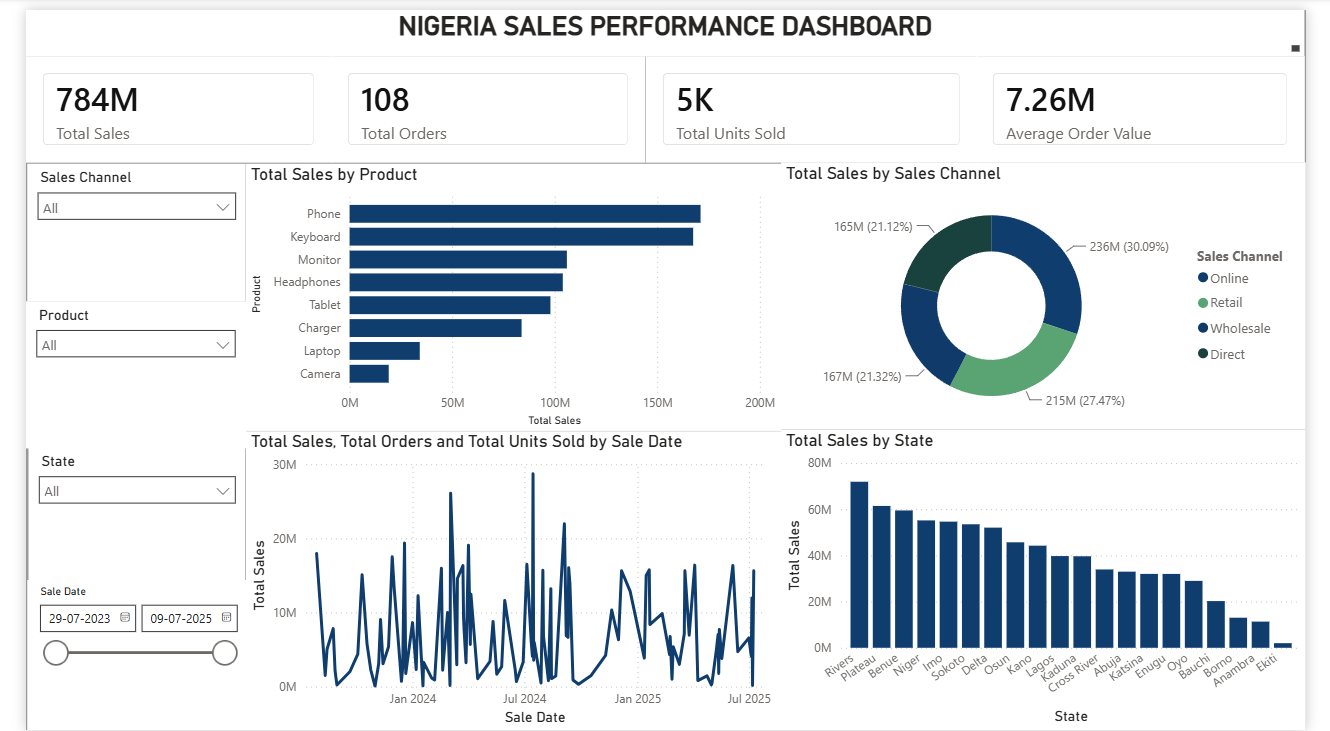

The page's visual inventory and layout, read from the dashboard file:
{"tool":"powerbi","page":{"name":"Page 1","canvas":[1280,720],"ordinal":0},"visuals":[{"type":"cardVisual","fields":{"Data":["nigeria_messy_sales_dataset.Total Sales"]},"box":[0,46.6,305.5,106.7],"z":0},{"type":"cardVisual","fields":{"Data":["nigeria_messy_sales_dataset.Total Orders"]},"box":[305.5,46.6,314.1,106.7],"z":1000},{"type":"cardVisual","fields":{"Data":["nigeria_messy_sales_dataset.Total Units Sold"]},"box":[619.6,46.6,331.3,106.7],"z":2000},{"type":"cardVisual","fields":{"Data":["nigeria_messy_sales_dataset.Average Order Value"]},"box":[949.7,46.6,328.8,106.7],"z":3000},{"type":"lineChart","fields":{"Category":["nigeria_messy_sales_dataset.Sale Date"],"Y":["nigeria_messy_sales_dataset.Total Sales"]},"box":[219.6,420.9,535,299.4],"z":4000},{"type":"clusteredBarChart","fields":{"Category":["nigeria_messy_sales_dataset.Product"],"Y":["nigeria_messy_sales_dataset.Total Sales"]},"box":[219.6,153.4,535,267.5],"z":5000},{"type":"donutChart","fields":{"Category":["nigeria_messy_sales_dataset.Sales Channel"],"Y":["nigeria_messy_sales_dataset.Total Sales"]},"box":[755,152.5,525,267.5],"z":6000},{"type":"slicer","fields":{"Values":["nigeria_messy_sales_dataset.Sales Channel"]},"box":[1.2,153.4,218.4,137.4],"z":7000},{"type":"slicer","fields":{"Values":["nigeria_messy_sales_dataset.State"]},"box":[2.5,438,217.2,132.5],"z":8000},{"type":"slicer","fields":{"Values":["nigeria_messy_sales_dataset.Product"]},"box":[0,290.8,219.6,147.2],"z":9000},{"type":"slicer","fields":{"Values":["nigeria_messy_sales_dataset.Sale Date"]},"box":[1.2,570.6,218.4,149.7],"z":10000},{"type":"clusteredColumnChart","fields":{"Category":["nigeria_messy_sales_dataset.State"],"Y":["nigeria_messy_sales_dataset.Total Sales"]},"box":[755.1,420.5,525,299.8],"z":11000},{"type":"textbox","title":"NIGERIA SALES PERFORMANCE DASHBOARD","box":[0,0,1278.5,46.6],"z":12000}]}

Visuals, with their boxes in screenshot pixels (x1, y1, x2, y2), scaled from the page's 1280x720 canvas onto the 1330x731 screenshot:
cardVisual - nigeria_messy_sales_dataset.Total Sales: 0 47 317 156
cardVisual - nigeria_messy_sales_dataset.Total Orders: 317 47 644 156
cardVisual - nigeria_messy_sales_dataset.Total Units Sold: 644 47 988 156
cardVisual - nigeria_messy_sales_dataset.Average Order Value: 987 47 1328 156
lineChart - nigeria_messy_sales_dataset.Sale Date x nigeria_messy_sales_dataset.Total Sales: 228 427 784 730
clusteredBarChart - nigeria_messy_sales_dataset.Product x nigeria_messy_sales_dataset.Total Sales: 228 156 784 427
donutChart - nigeria_messy_sales_dataset.Sales Channel x nigeria_messy_sales_dataset.Total Sales: 784 155 1329 426
slicer - nigeria_messy_sales_dataset.Sales Channel: 1 156 228 295
slicer - nigeria_messy_sales_dataset.State: 3 445 228 579
slicer - nigeria_messy_sales_dataset.Product: 0 295 228 445
slicer - nigeria_messy_sales_dataset.Sale Date: 1 579 228 730
clusteredColumnChart - nigeria_messy_sales_dataset.State x nigeria_messy_sales_dataset.Total Sales: 785 427 1329 730
"NIGERIA SALES PERFORMANCE DASHBOARD" textbox: 0 0 1328 47
